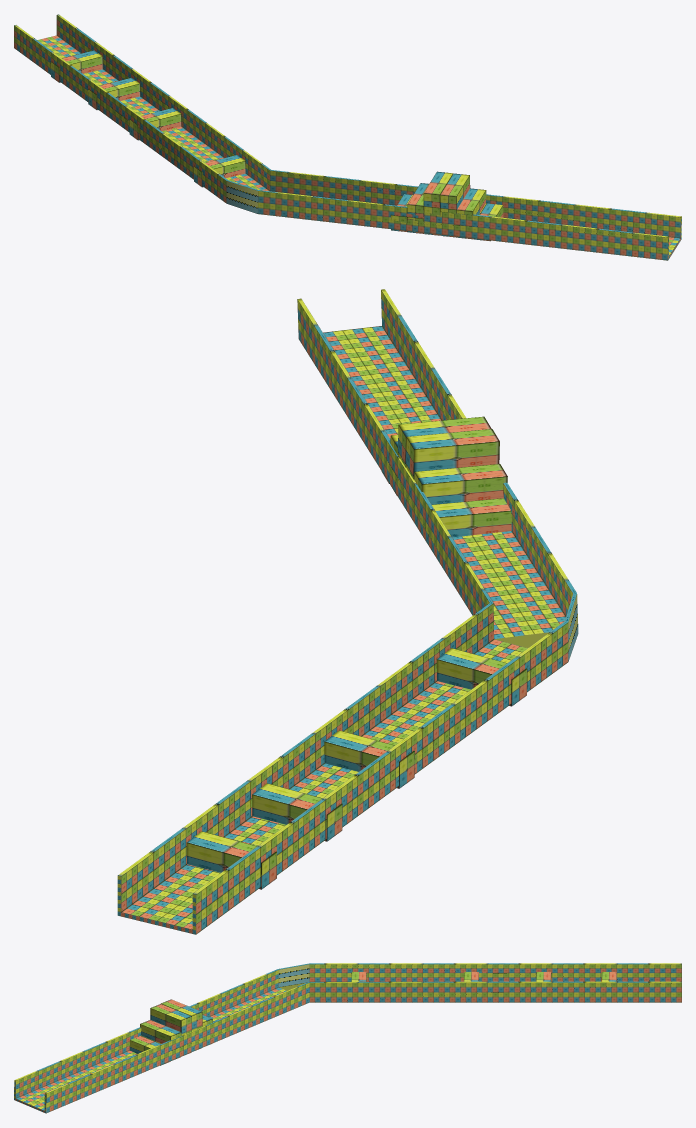
Rendered from SUTE2_01.obj.
3 views of the same model, one above another, from view 1: azimuth 30°, elevation 25°; view 2: azimuth 150°, elevation 25°; view 3: azimuth 270°, elevation 25° (orthographic). The views are drawn at different scales.
Parts seen in each view (by area): view 1: obj1; view 2: obj1; view 3: obj1.
Boxes of the visible parts, bbox=[...] form: obj1: bbox=[14, 14, 681, 260]; obj1: bbox=[117, 289, 578, 934]; obj1: bbox=[14, 963, 681, 1113].
Bounding box in the file's own units: 41.52 × 5.46 × 89.69.
